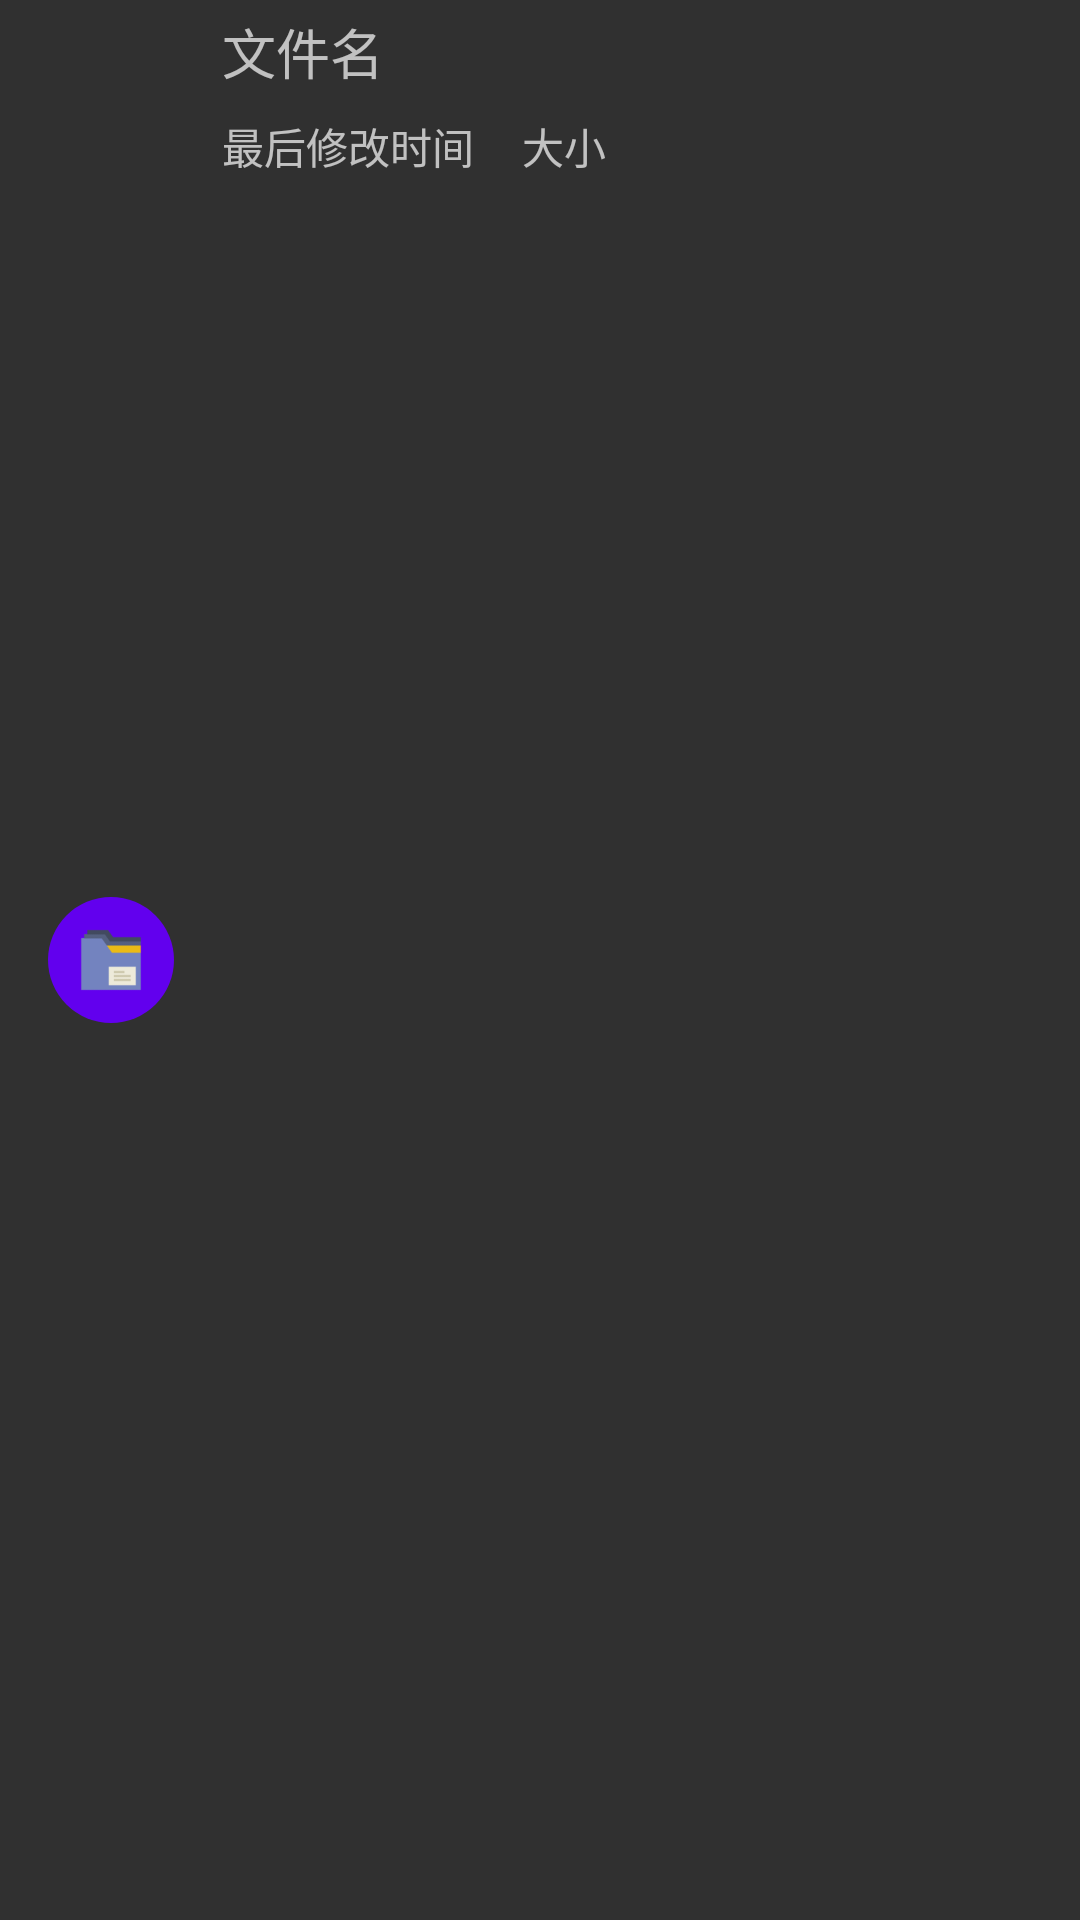

Named icons in this screenshot (1080x1920) and their centers, [x,y]:
folder: [111,960]
